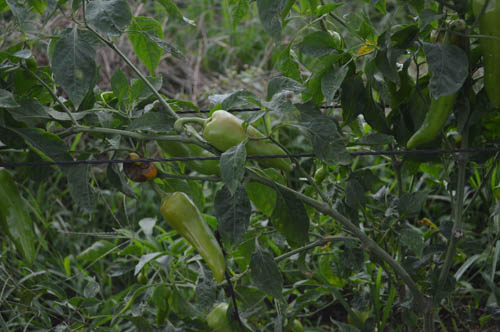ChiliPepper: (162, 194, 229, 278), (203, 114, 294, 165), (1, 171, 38, 263), (407, 91, 455, 150), (161, 135, 224, 172)
